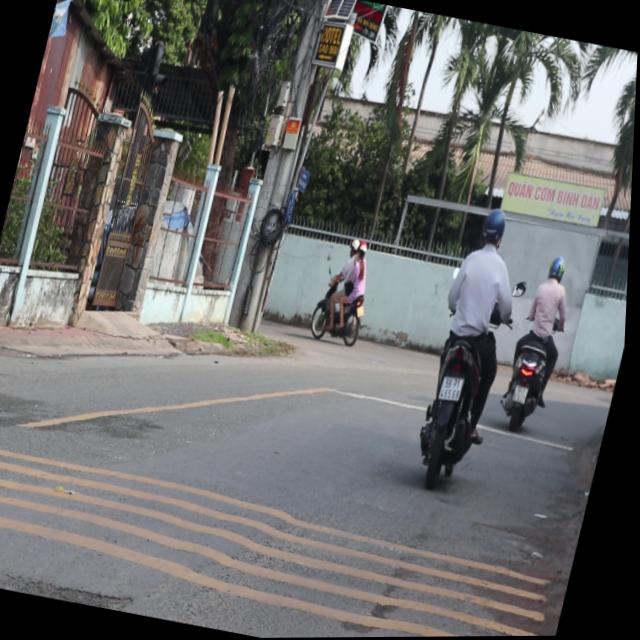helmet: (477, 202, 511, 250)
licenseplate: (405, 199, 539, 492)
nohelmet: (441, 374, 468, 402)
